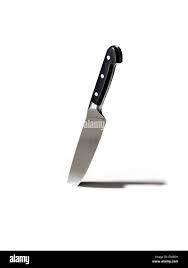Knife: (66, 44, 123, 185)
